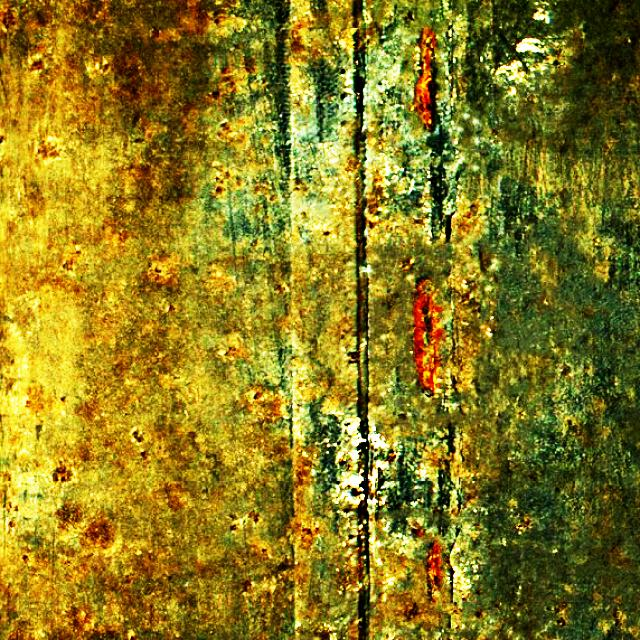Corrosion: (416, 279, 440, 396), (416, 29, 437, 128)
